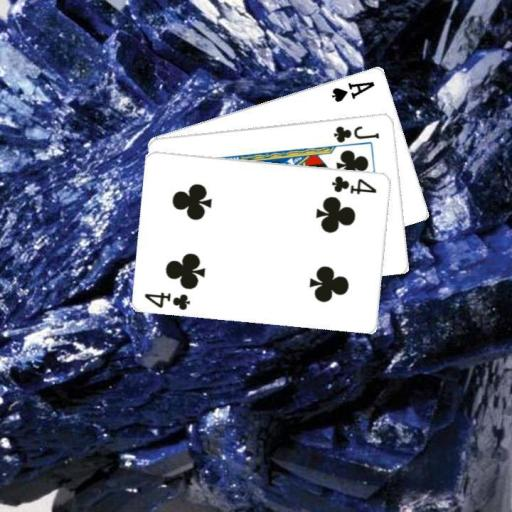4C: (142, 289, 192, 312), (330, 173, 379, 196)
AS: (329, 78, 376, 103)
JC: (331, 122, 381, 144)
